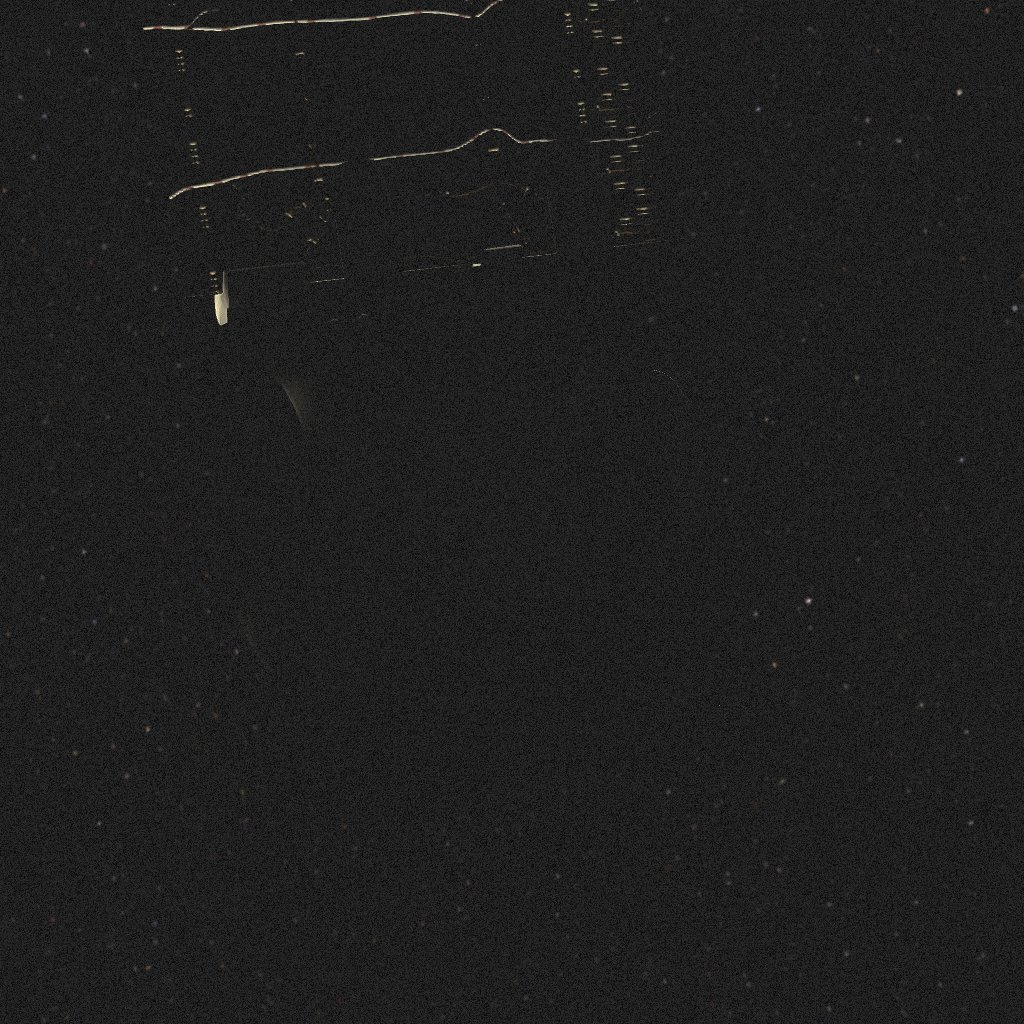proba_3_csc: (137, 0, 752, 824)
